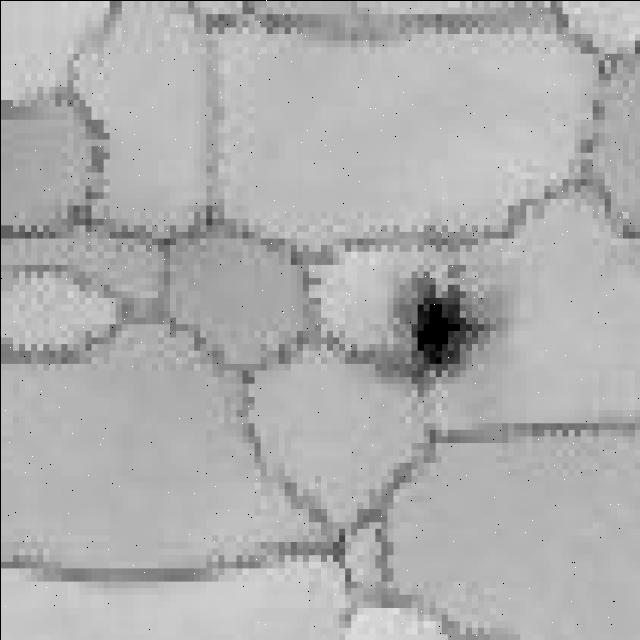good_void: (387, 258, 501, 403)
